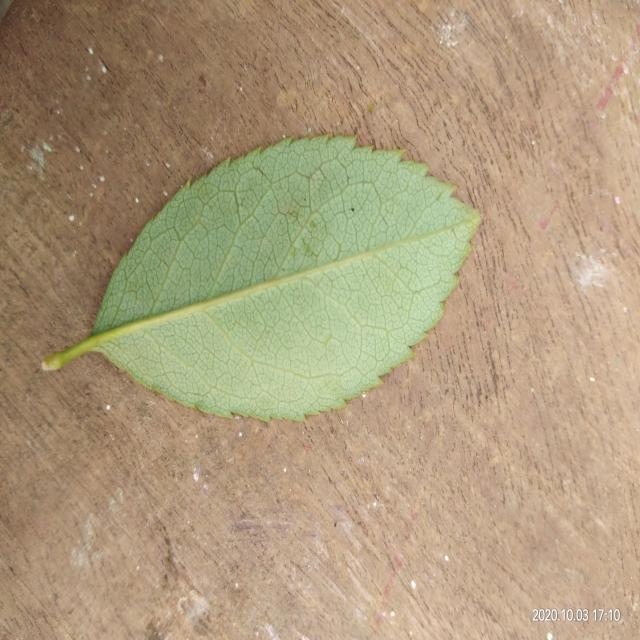rose: (59, 135, 480, 420)
